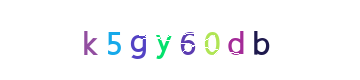0: (140, 0, 220, 80)
5: (123, 0, 203, 80)
6: (135, 0, 215, 80)
B: (220, 0, 300, 80)
D: (172, 0, 252, 80)
G: (128, 0, 208, 80)
K: (74, 0, 154, 80)
Y: (128, 0, 208, 80)
